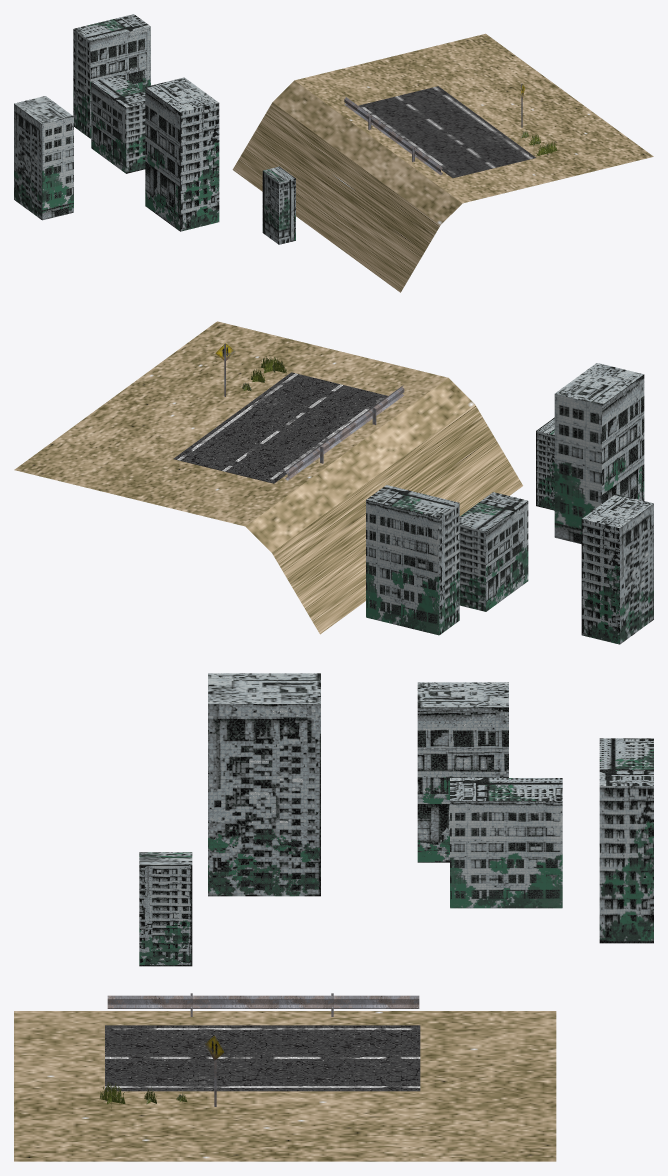
The model's file is Environtments.fbx.
3 views of the same model, one above another, from view 1: azimuth 30°, elevation 25°; view 2: azimuth 150°, elevation 25°; view 3: azimuth 270°, elevation 25° (orthographic). The views are drawn at different scales.
Parts seen in each view (by area): view 1: Cube.013, Cube.003, Cube.015, Cube.017, Cube.018, Cube.014, Cube, Cube.012, Cube.016; view 2: Cube.013, Cube.003, Cube.018, Cube.015, Cube.017, Cube.014, Cube, Cube.012, Cube.016; view 3: Cube.013, Cube.003, Cube.015, Cube.014, Cube.017, Cube.018, Cube, Cube.012, Cube.016.
Boxes of the visible parts, x1,y1,x2,y2 form: Cube.013: (232,33,653,292); Cube.003: (145,77,219,231); Cube.015: (358,86,535,178); Cube.017: (14,96,73,220); Cube.018: (73,14,150,138); Cube.014: (91,74,145,173); Cube: (262,166,295,244); Cube.012: (388,128,442,175); Cube.016: (344,97,389,136); Cube.013: (14,321,522,634); Cube.003: (554,363,644,544); Cube.018: (366,485,459,635); Cube.015: (173,372,387,483); Cube.017: (581,494,653,644); Cube.014: (459,492,528,611); Cube: (536,417,554,510); Cube.012: (338,385,404,441); Cube.016: (285,432,340,480); Cube.013: (14,1011,556,1161); Cube.003: (208,673,320,896); Cube.015: (105,1025,420,1091); Cube.014: (450,778,562,908); Cube.017: (417,682,508,862); Cube.018: (599,738,653,943); Cube: (139,852,192,966); Cube.012: (107,995,278,1008); Cube.016: (278,995,419,1008).
Bounding box in the file's own units: 3500 × 1206 × 2471.
Materials: 6 (6 with a texture image).
